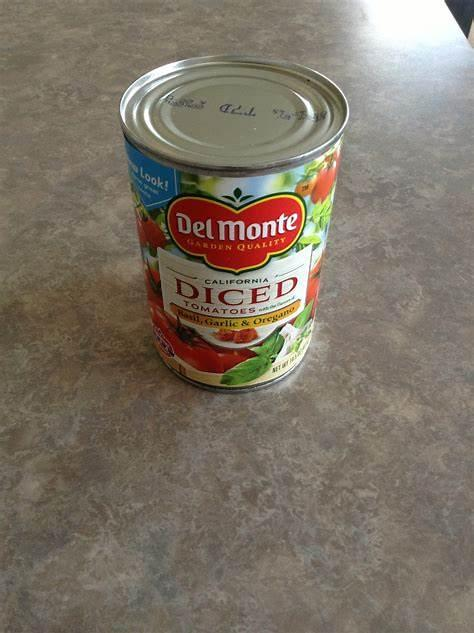metal: (120, 56, 350, 390)
